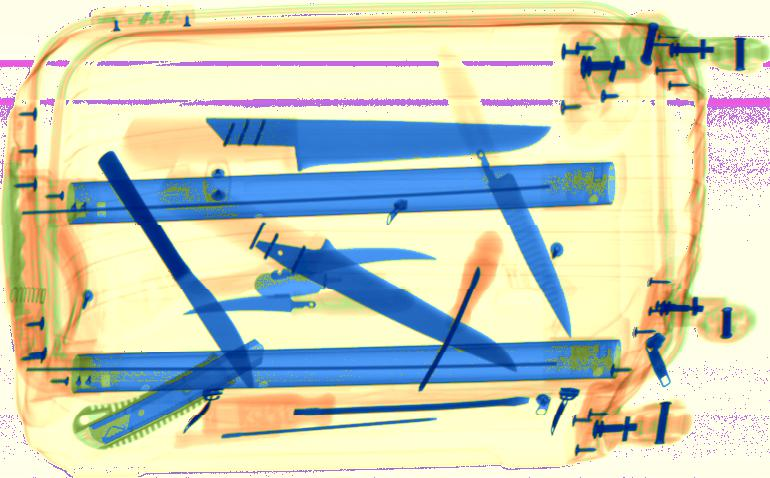Knife: (245, 217, 516, 371), (94, 151, 254, 390), (443, 50, 572, 340), (126, 116, 552, 172), (262, 244, 437, 281), (181, 291, 349, 317), (255, 270, 327, 296)
